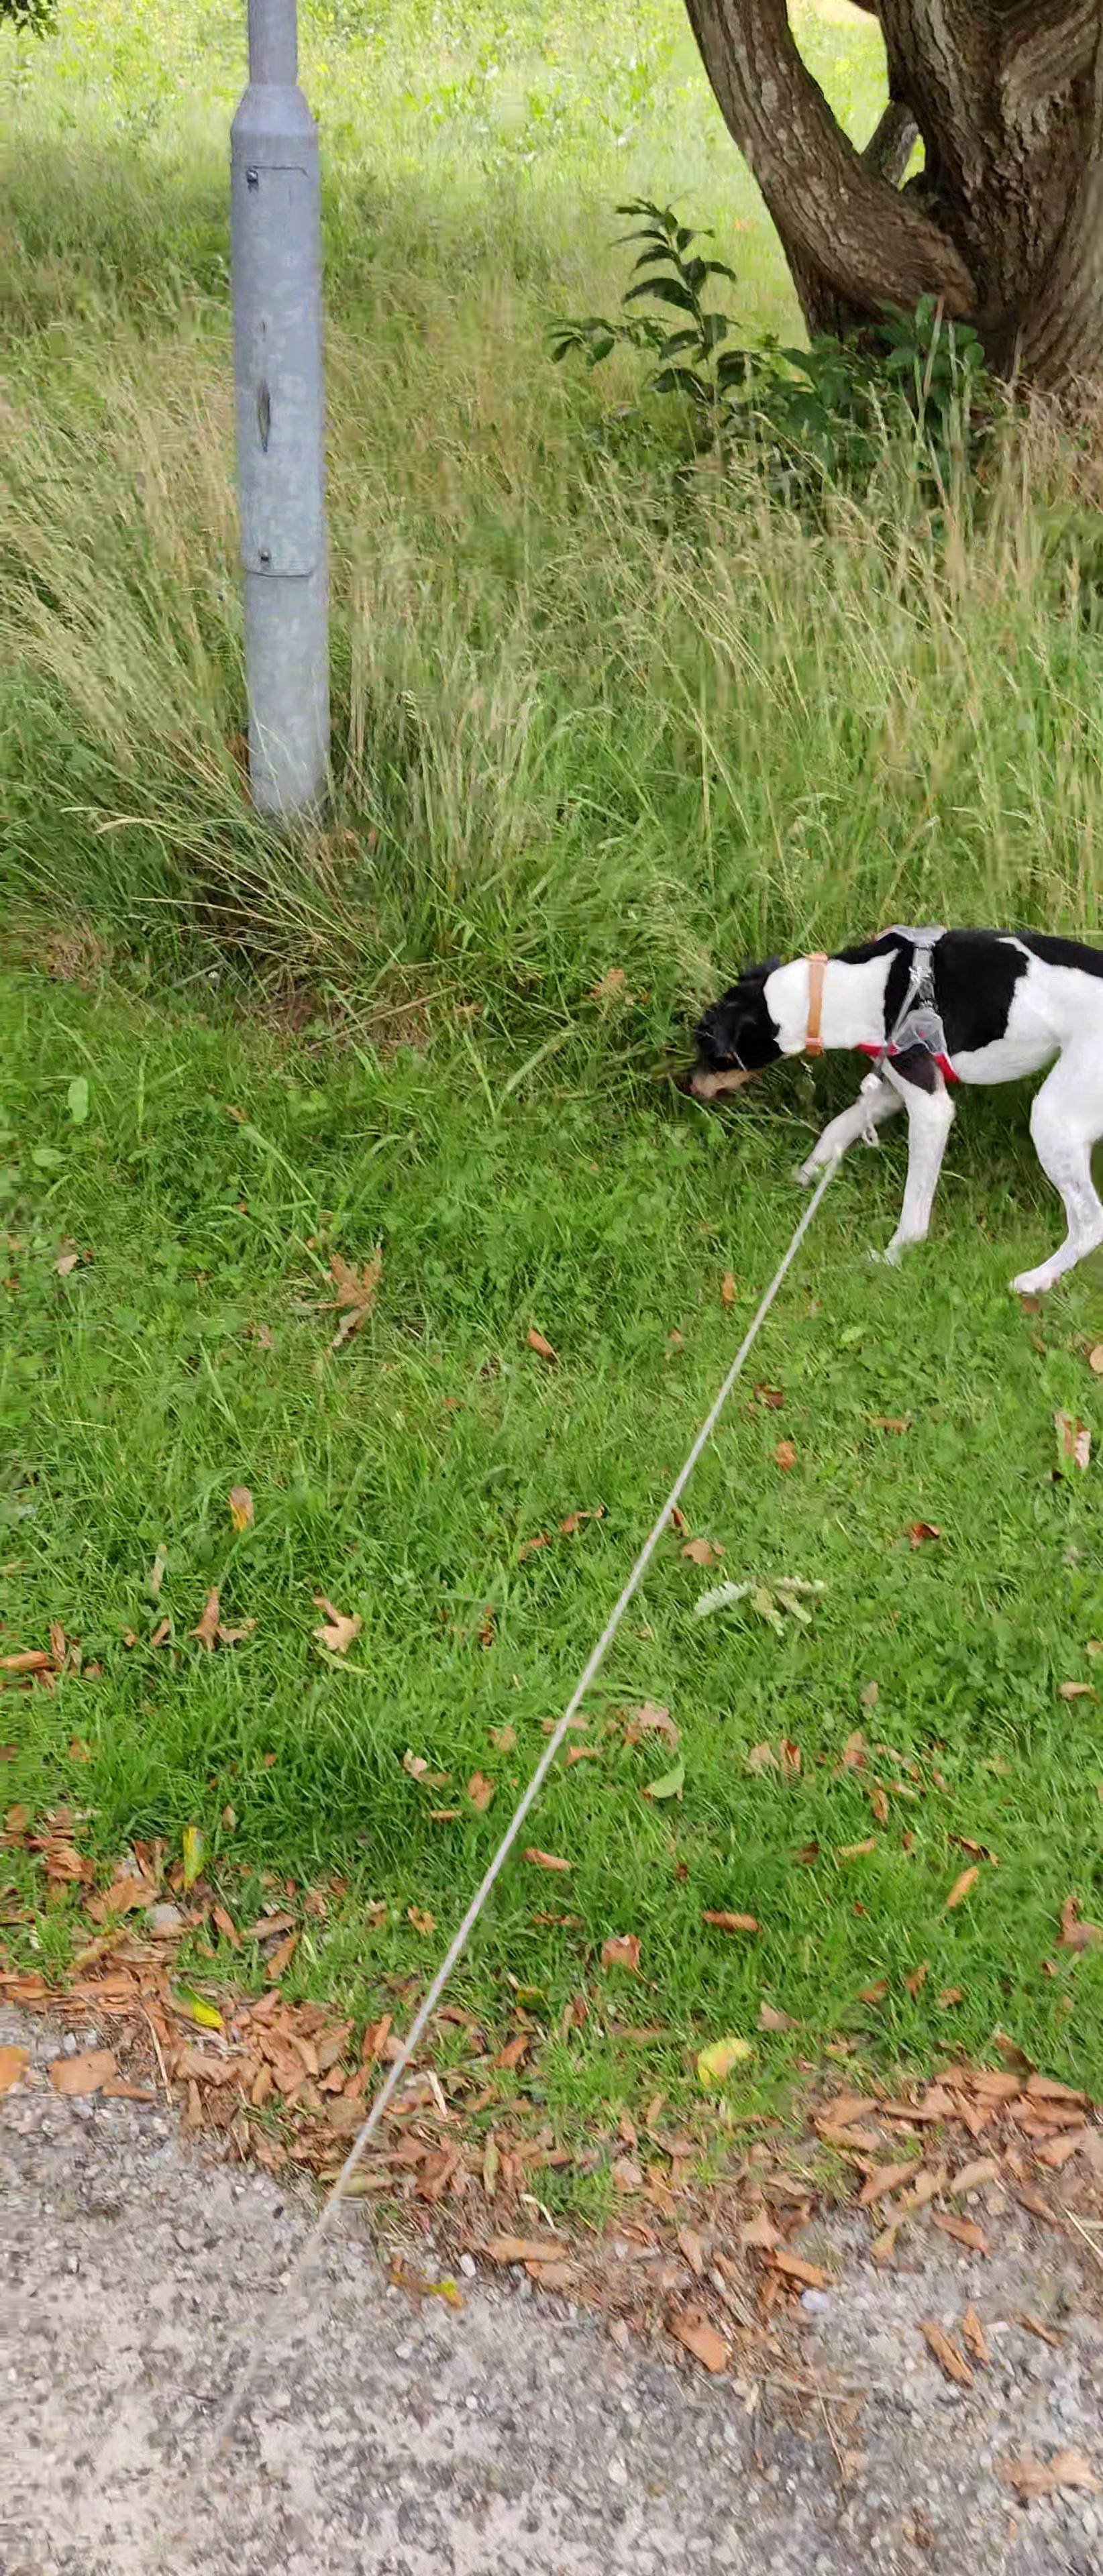Dog: (674, 917, 1103, 1303)
